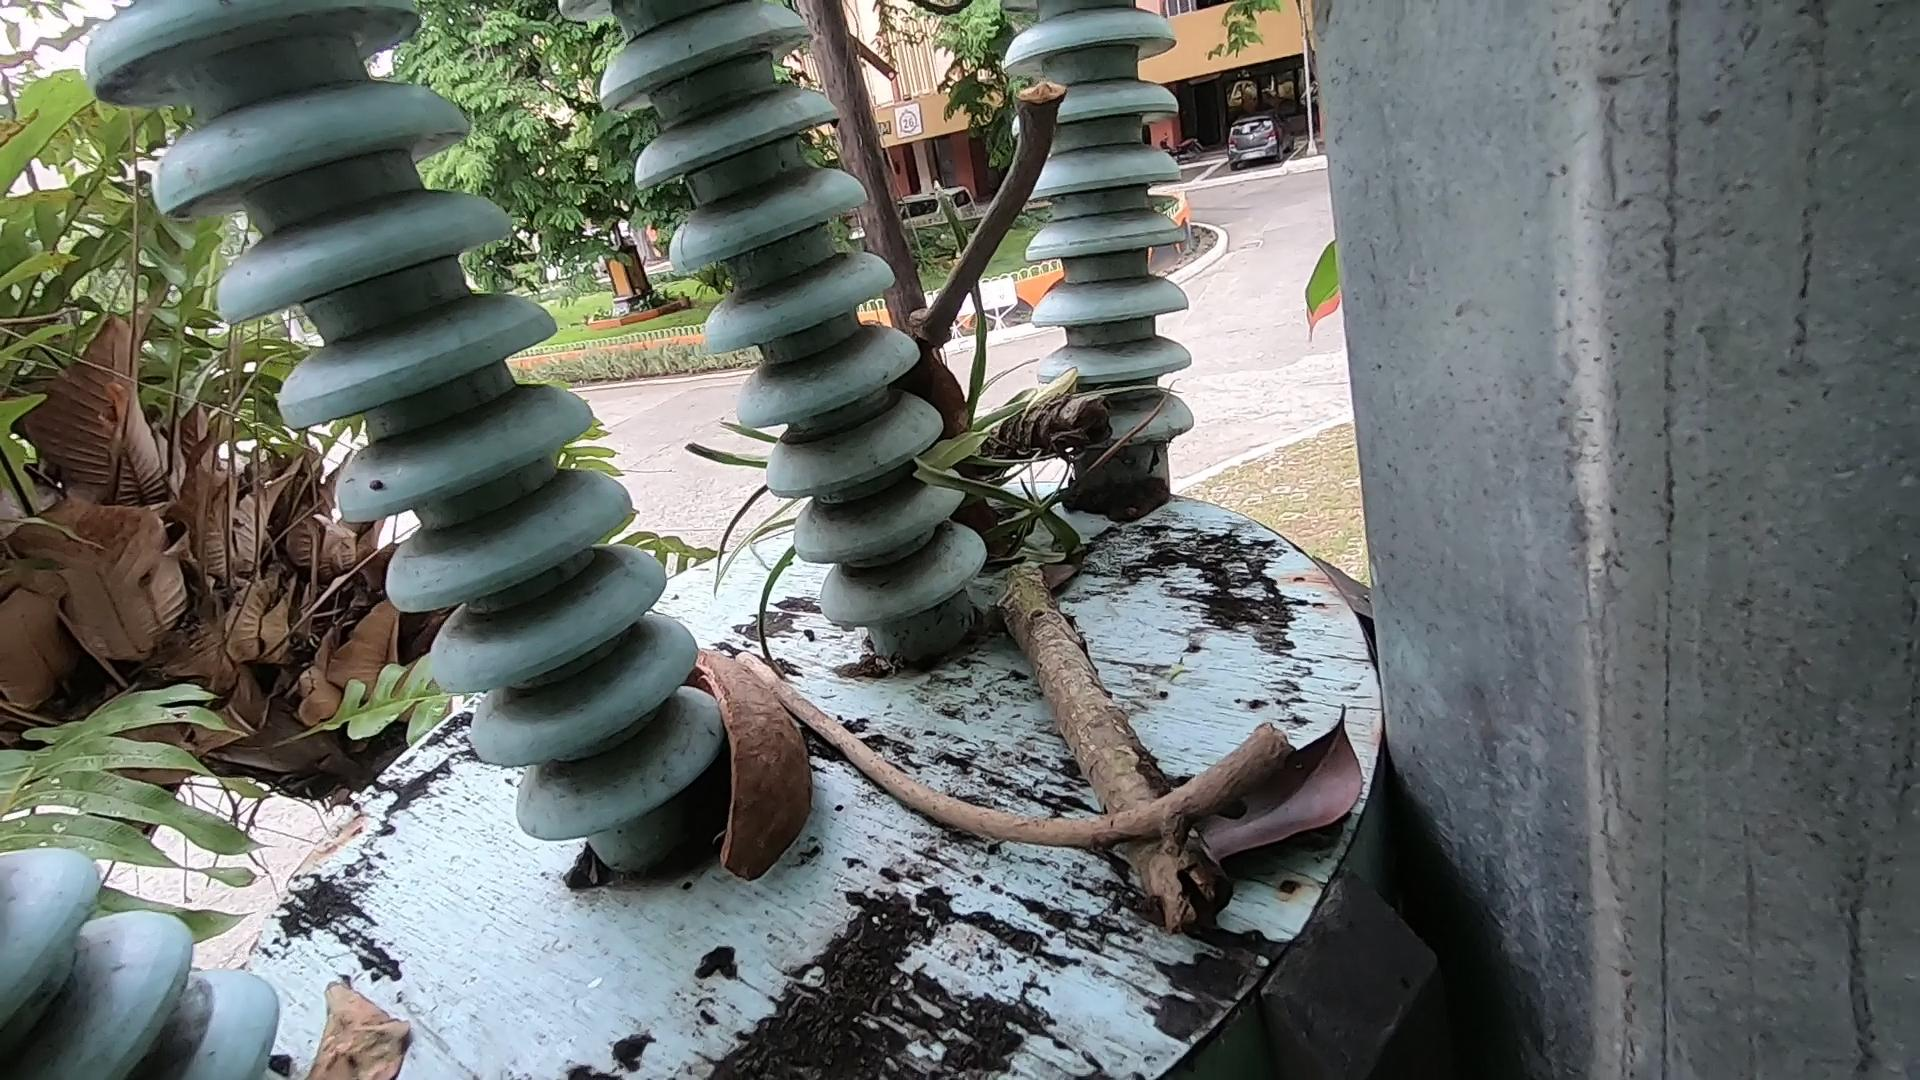branch with leaves: (934, 287, 1258, 926)
leaf: (1215, 707, 1403, 898), (229, 953, 483, 1080)
mahogany fruit: (905, 324, 1031, 642), (705, 597, 822, 916)
tree branch: (704, 655, 1381, 895), (862, 1, 1141, 375)
